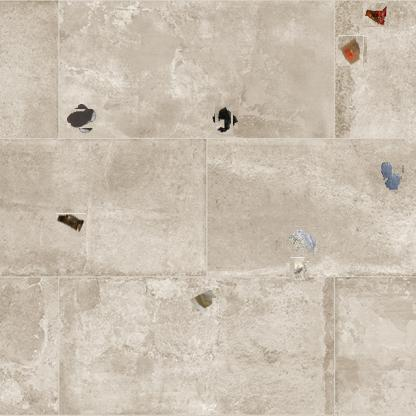dirty: (285, 226, 319, 254), (188, 287, 218, 317), (337, 36, 366, 65), (364, 2, 389, 26), (57, 213, 86, 232), (212, 109, 235, 131), (288, 259, 307, 279)
liquid: (382, 162, 404, 190), (70, 106, 94, 131)
